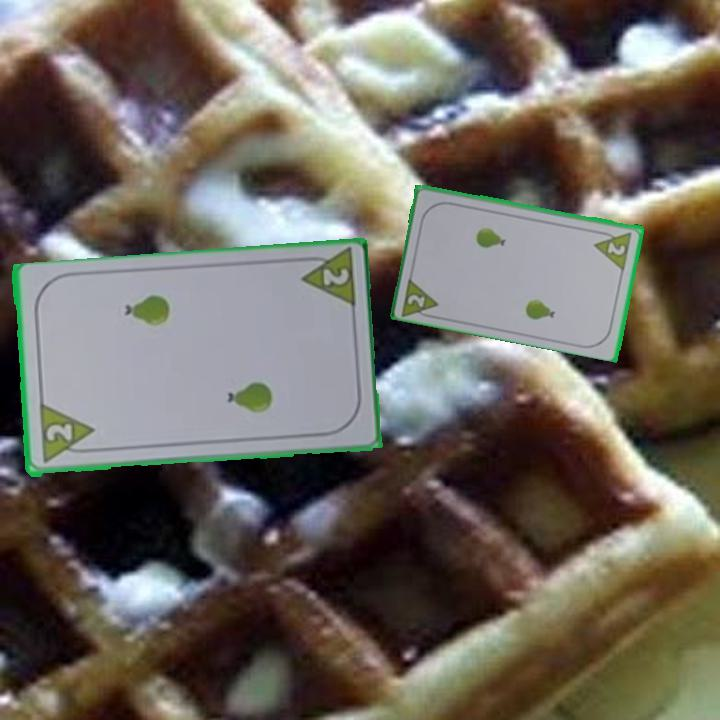2p: (294, 247, 358, 312), (398, 272, 442, 322), (591, 226, 635, 272), (42, 420, 75, 445)
